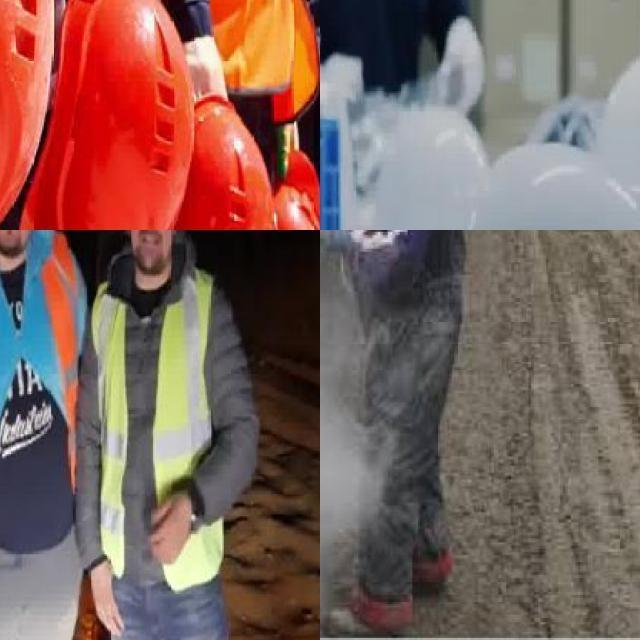apron: (320, 230, 349, 259)
